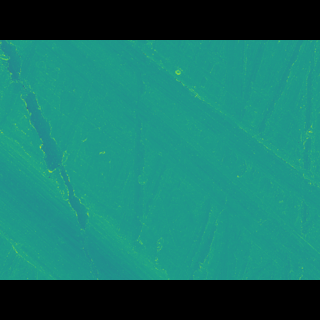Loch: (30, 69, 320, 199), (0, 143, 175, 248)
